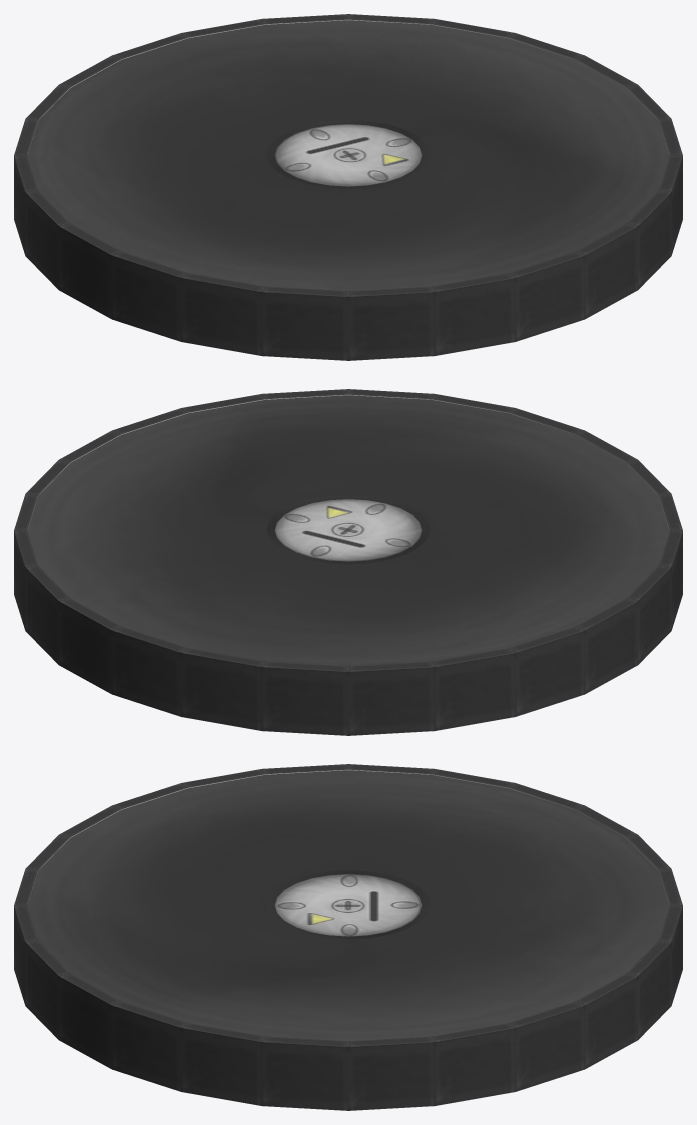
Rendered from Mk25HeatShield.FBX.
The picture shows the model from 3 angles, top to bottom: view 1: azimuth 30°, elevation 25°; view 2: azimuth 150°, elevation 25°; view 3: azimuth 270°, elevation 25°; orthographic projection.
Visible parts, largest first — view 1: Cylinder003, ShroudOuter, CrewHatch003, IsoGrid; view 2: Cylinder003, ShroudOuter, CrewHatch003, IsoGrid; view 3: Cylinder003, ShroudOuter, CrewHatch003, IsoGrid.
Part boxes in pixels (left/top/right/bottom): Cylinder003: left=27, top=20, right=669, bottom=291; ShroudOuter: left=14, top=14, right=682, bottom=360; CrewHatch003: left=266, top=120, right=430, bottom=189; IsoGrid: left=27, top=19, right=669, bottom=154; Cylinder003: left=27, top=395, right=669, bottom=666; ShroudOuter: left=14, top=389, right=682, bottom=735; CrewHatch003: left=266, top=495, right=430, bottom=564; IsoGrid: left=27, top=394, right=669, bottom=529; Cylinder003: left=27, top=770, right=669, bottom=1041; ShroudOuter: left=14, top=764, right=682, bottom=1110; CrewHatch003: left=266, top=870, right=430, bottom=939; IsoGrid: left=27, top=769, right=669, bottom=904.
Size of what is drawn, in the model's own units: 2.55 by 0.2729 by 2.55.
